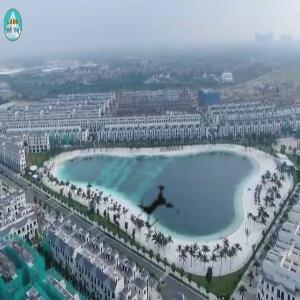drone: (107, 160, 208, 261)
